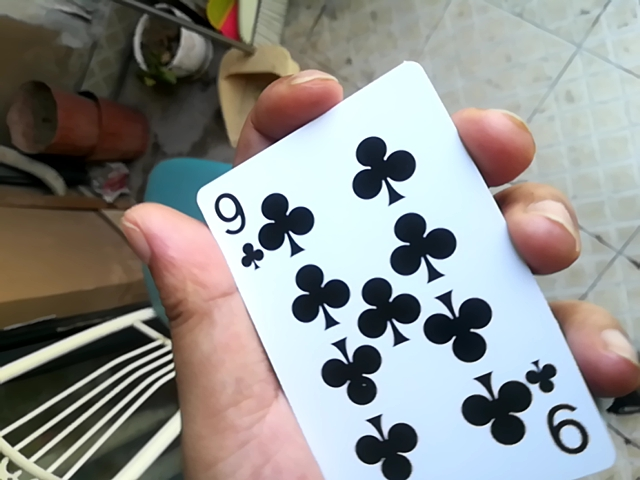mh 9: (170, 59, 582, 480)
